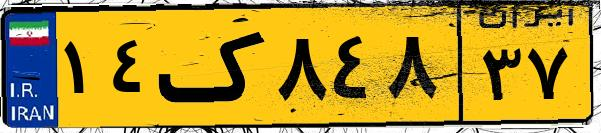1: (57, 26, 110, 100)
3: (475, 38, 525, 113)
4: (330, 28, 385, 110), (110, 28, 158, 98)
7: (525, 38, 570, 115)
8: (270, 28, 330, 110), (385, 28, 445, 110)
ک: (158, 12, 270, 120)
